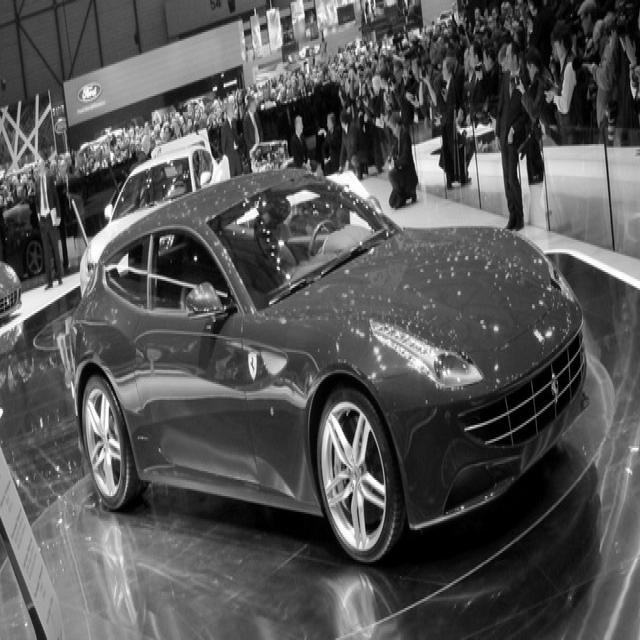car: (57, 164, 590, 564)
